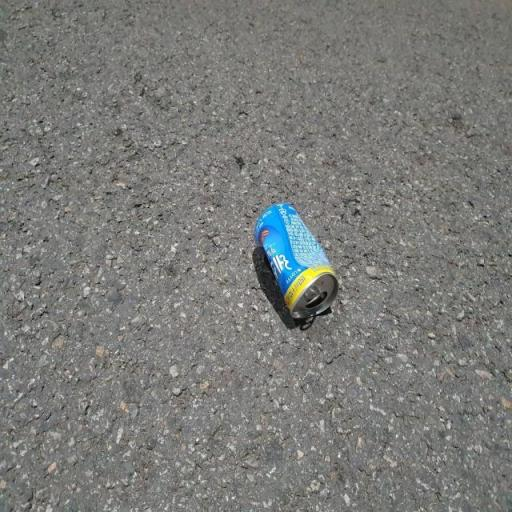metal: (236, 167, 350, 346)
